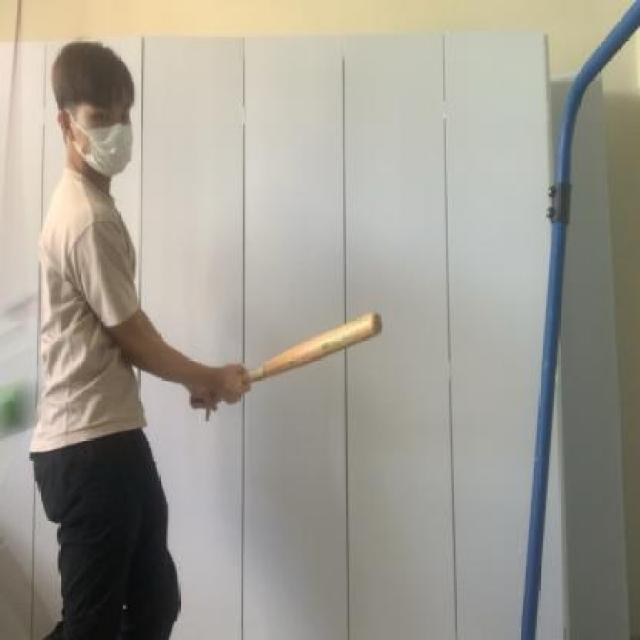baseball: (0, 367, 46, 448)
